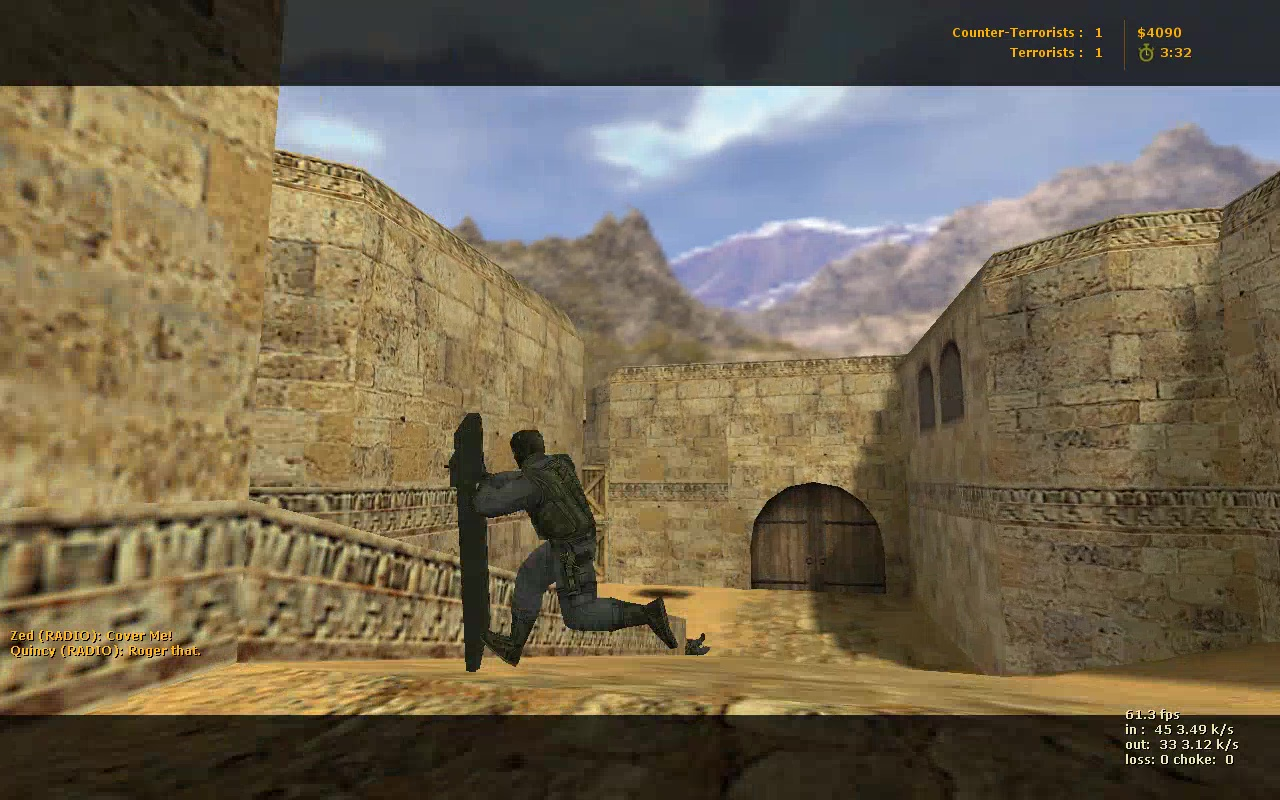ct: (451, 414, 676, 672)
